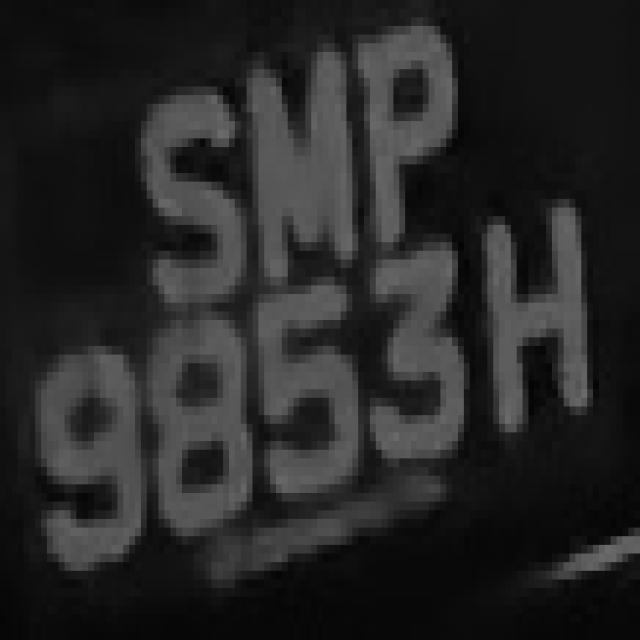3: (346, 208, 482, 467)
5: (247, 268, 358, 519)
8: (158, 312, 258, 554)
9: (47, 294, 135, 571)
H: (469, 199, 616, 476)
M: (235, 17, 352, 294)
P: (341, 18, 482, 286)
S: (123, 70, 247, 312)
